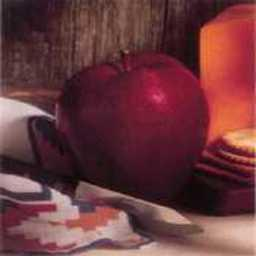apple: (55, 49, 210, 201)
